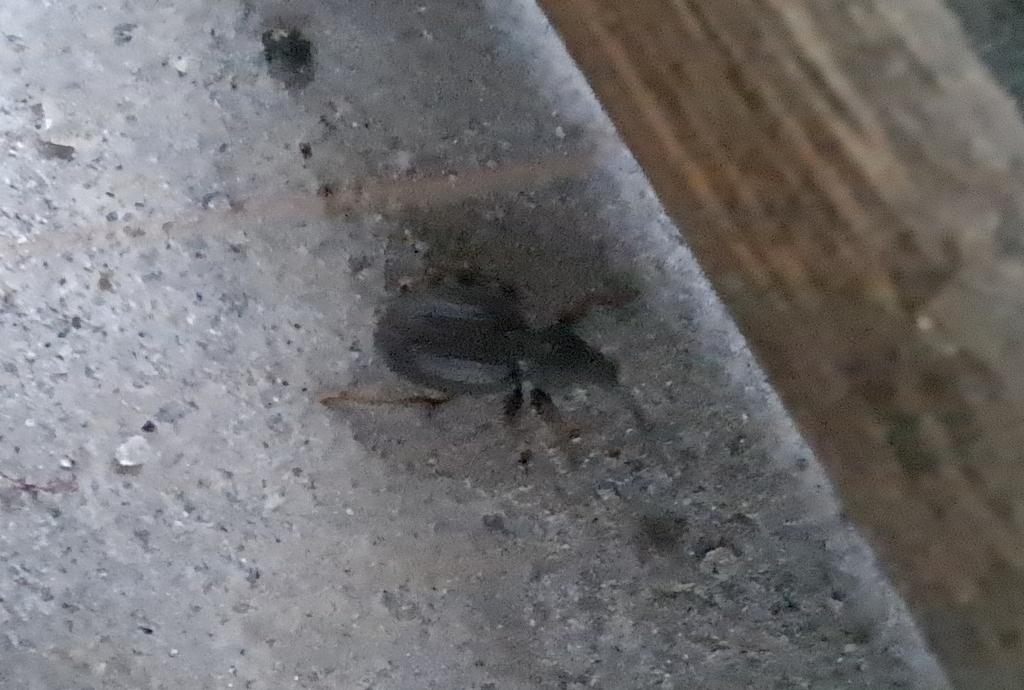weevils: (306, 236, 662, 464)
